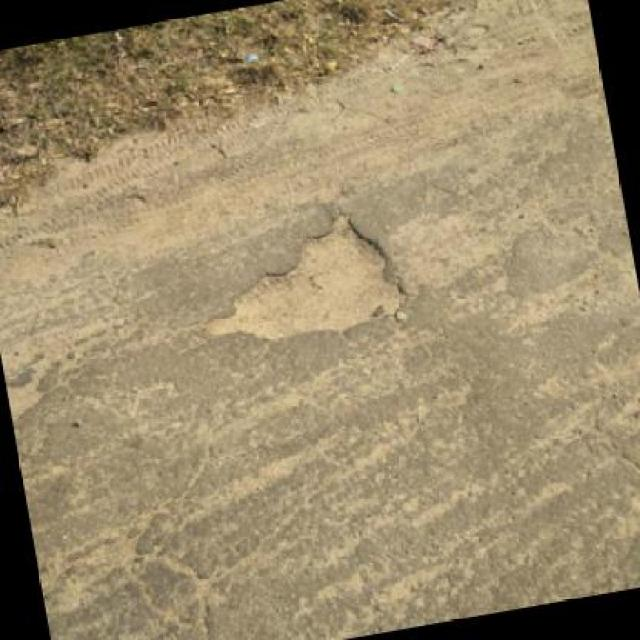pothole: (188, 198, 415, 360)
